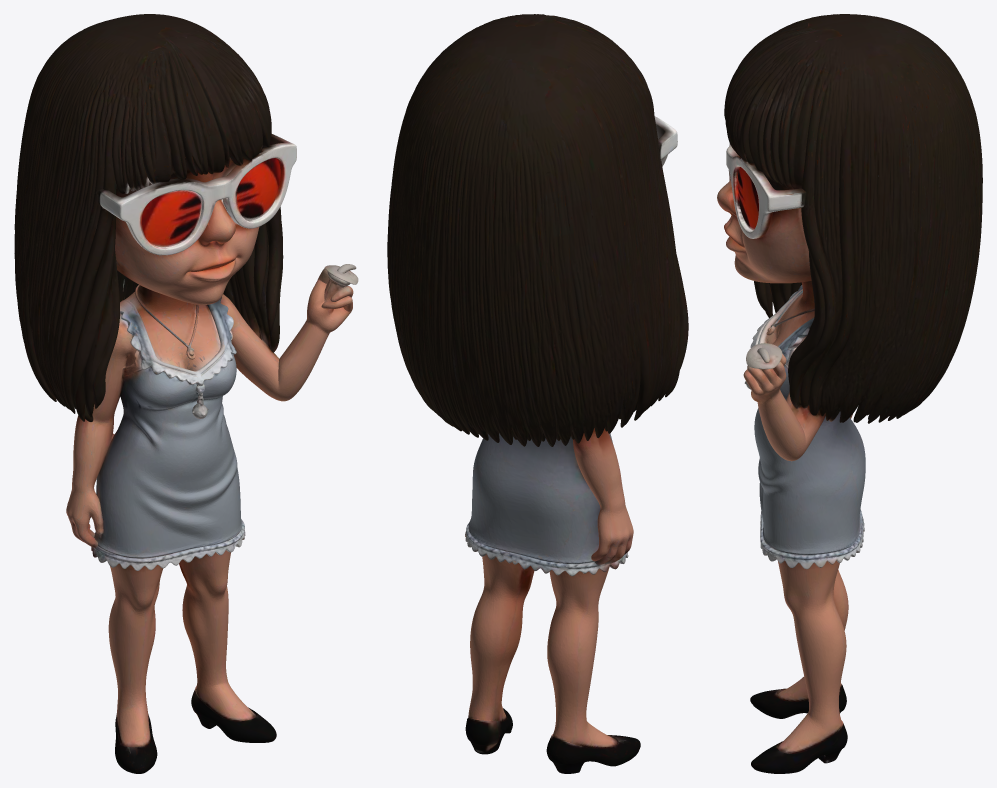
Rendered from character2_optimized.glb.
The picture shows the model from 3 angles, left to right: view 1: azimuth 30°, elevation 25°; view 2: azimuth 150°, elevation 25°; view 3: azimuth 270°, elevation 25°; orthographic projection. The views are drawn at different scales.
Parts seen in each view (by area): view 1: Figure; view 2: Figure; view 3: Figure.
Part boxes in pixels (left/top/right/bottom): Figure: left=14, top=14, right=358, bottom=773; Figure: left=387, top=14, right=688, bottom=773; Figure: left=717, top=14, right=982, bottom=773.
Size of the model in its own units: 43.01 by 100 by 34.15.
1 material, 1 textured.
